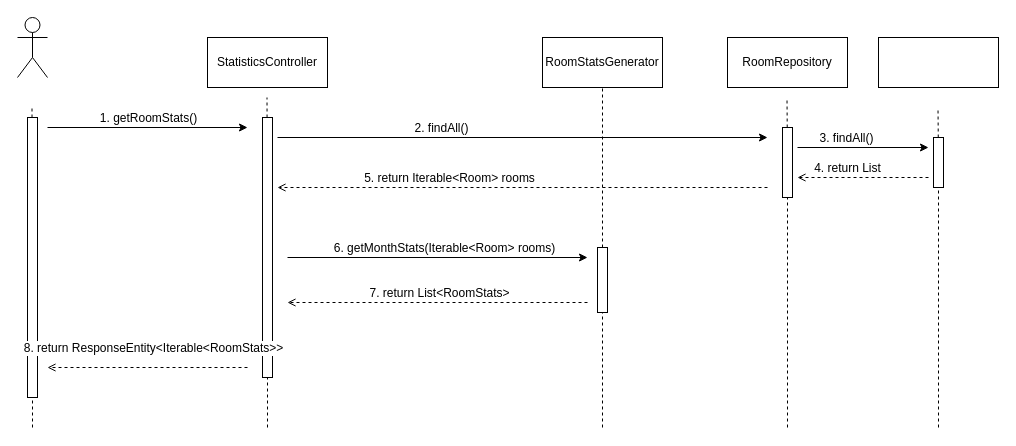
The diagram is 1016 pixels wide and 446 high, and some of its shapes have lost their labels. Each missing label, with the box of its shape:
Client: (16, 16, 48, 78)
MariaJDBC: (878, 36, 998, 88)
